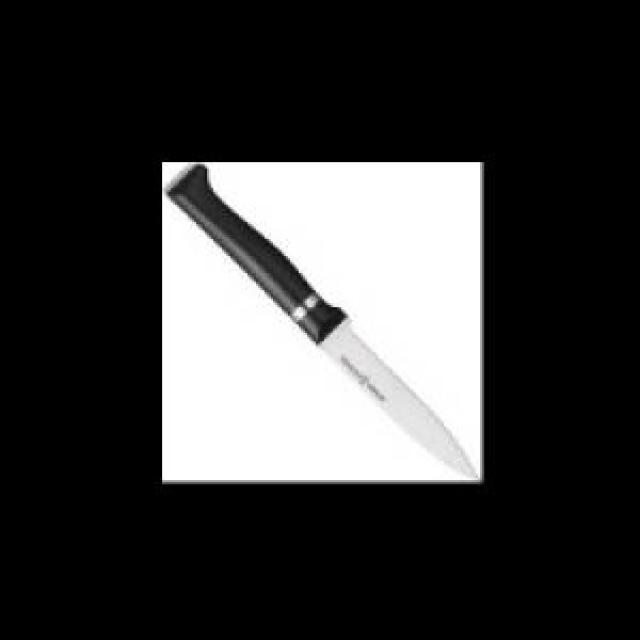knife: (166, 162, 478, 475)
